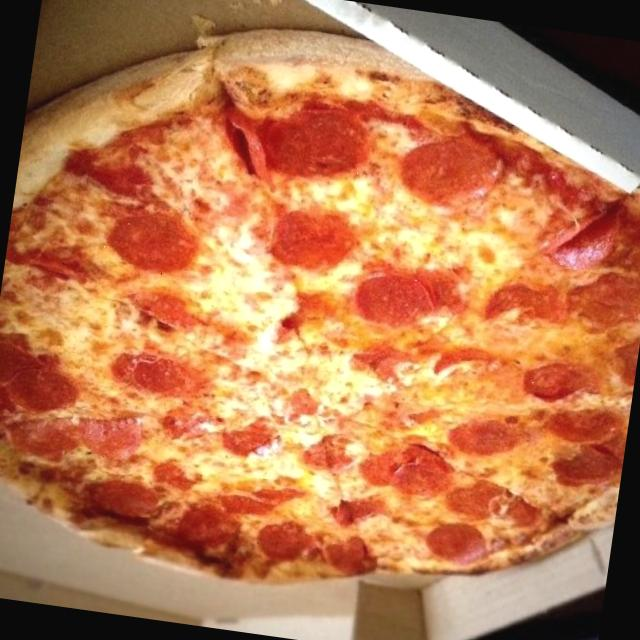pepperoni: (392, 128, 518, 221), (256, 95, 372, 188), (98, 195, 205, 284), (536, 197, 640, 277), (262, 196, 360, 278), (0, 333, 83, 419), (349, 264, 444, 334), (61, 401, 159, 465), (470, 269, 570, 331), (108, 344, 210, 404), (448, 476, 538, 533), (550, 433, 626, 500), (130, 287, 226, 339), (78, 472, 164, 530), (562, 274, 640, 337), (384, 437, 456, 503), (217, 471, 306, 524), (519, 352, 595, 409), (448, 414, 528, 468), (162, 502, 242, 554), (544, 404, 626, 452), (426, 518, 490, 574), (316, 488, 393, 532), (295, 430, 363, 478), (9, 248, 89, 288), (250, 518, 313, 568)
pizza: (0, 30, 640, 584)
